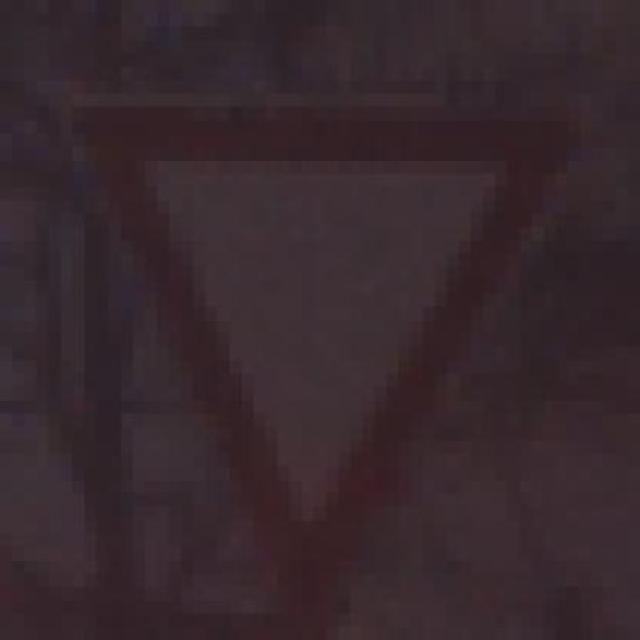Give Way: (60, 53, 592, 613)
